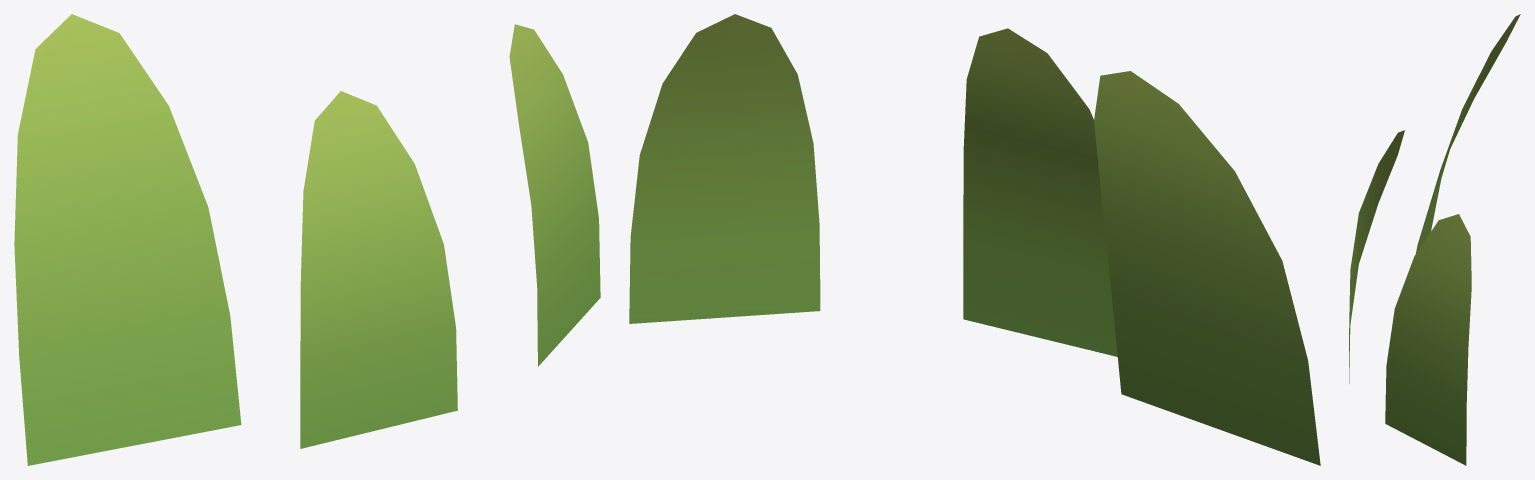
The model's file is Grass 1.fbx.
3 renders of one model, left to right at view 1: azimuth 30°, elevation 25°; view 2: azimuth 150°, elevation 25°; view 3: azimuth 270°, elevation 25°, orthographic. The views are drawn at different scales.
Parts seen in each view (by area): view 1: Plane.010; view 2: Plane.010; view 3: Plane.010.
Boxes of the visible parts, x1,y1,x2,y2 form: Plane.010: (14, 14, 600, 465); Plane.010: (629, 14, 1320, 465); Plane.010: (1349, 14, 1520, 465).
Size of the model in its own units: 90.44 by 54.56 by 30.59.
